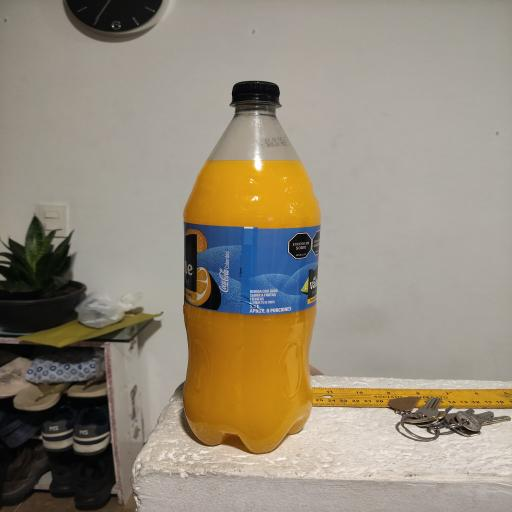Jugo del valle: (184, 82, 320, 452)
